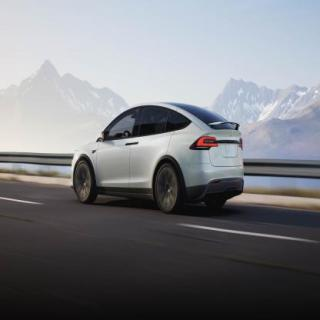Normal_vehicle: (71, 103, 243, 213)
